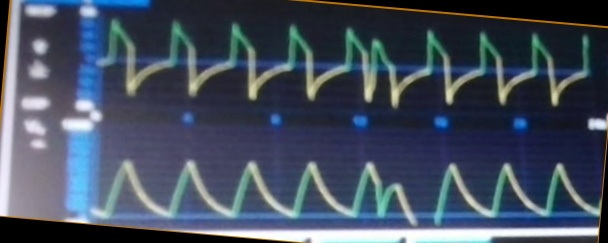Double_Triggering Flow: (112, 17, 584, 109)
Double_Triggering Volume: (112, 143, 584, 222)
